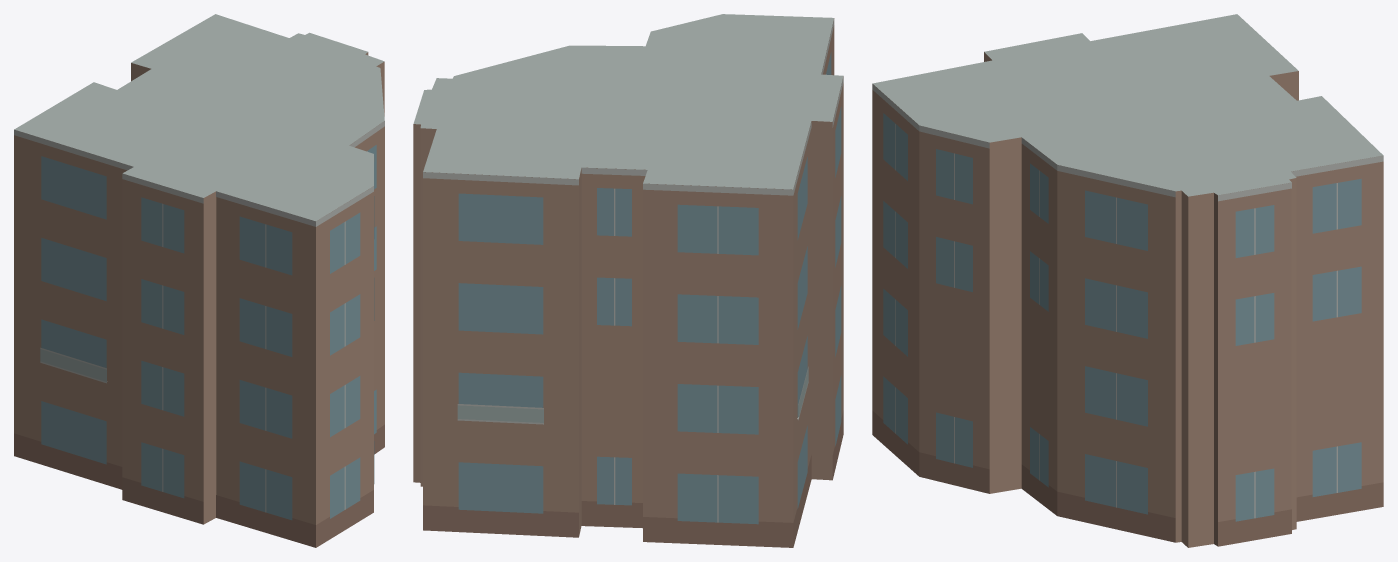
File: survey-upis-32746324.glb
The picture shows the model from 3 angles, left to right: view 1: azimuth 30°, elevation 25°; view 2: azimuth 150°, elevation 25°; view 3: azimuth 270°, elevation 25°; orthographic projection. The views are drawn at different scales.
Visible parts, largest first — view 1: survey-upis-32746324.tmp; view 2: survey-upis-32746324.tmp; view 3: survey-upis-32746324.tmp.
Boxes of the visible parts, box(x1,y1,x2,y2) form: survey-upis-32746324.tmp: box(14, 14, 384, 547); survey-upis-32746324.tmp: box(413, 14, 843, 547); survey-upis-32746324.tmp: box(872, 14, 1383, 547).
Size of the model in its own units: 15.72 by 14.1 by 18.6.
